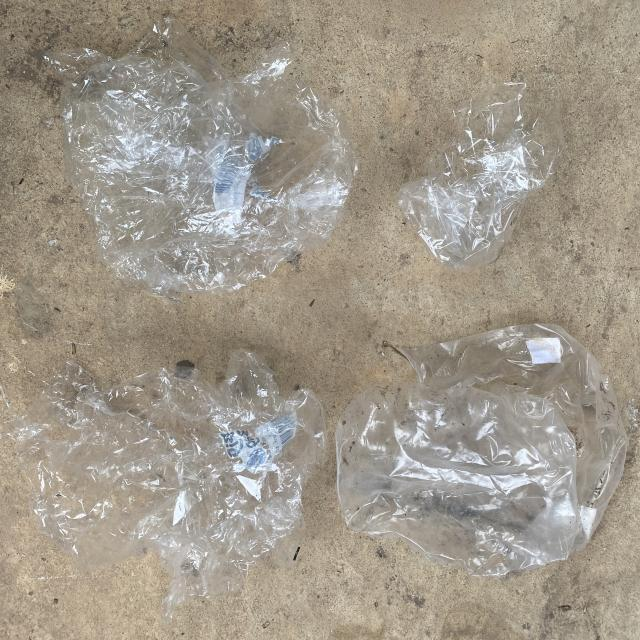Single-layer Plastic: (10, 350, 326, 622), (51, 19, 356, 299), (336, 324, 628, 576), (396, 76, 564, 270)
